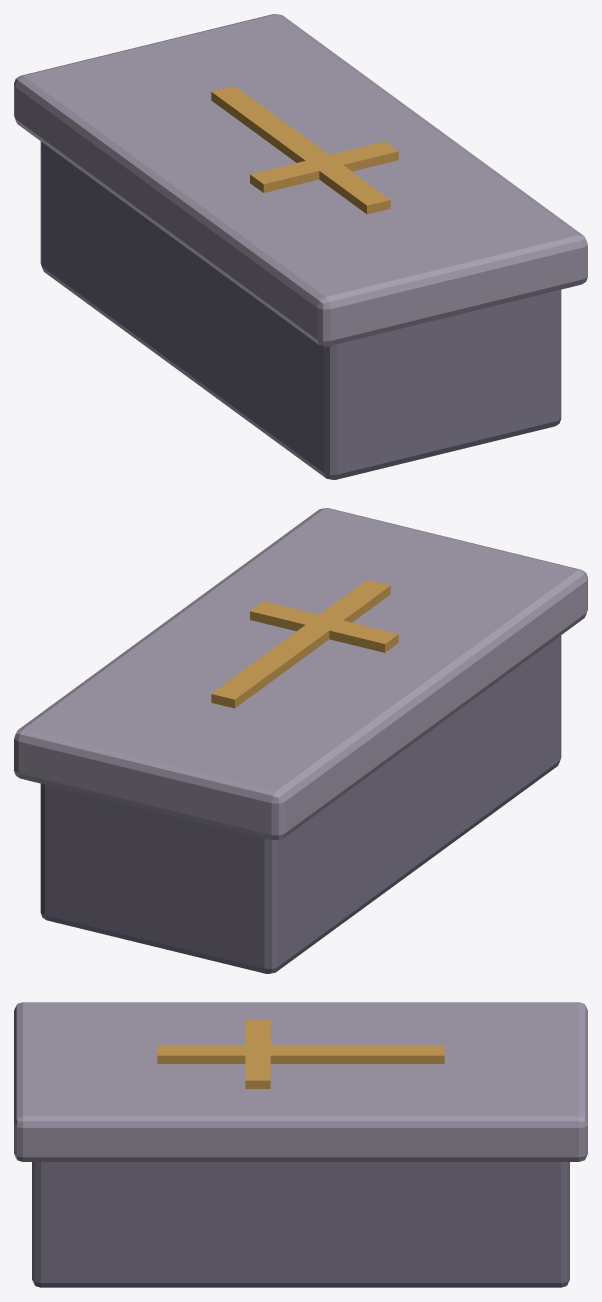
Rendered from coffin.glb.
The picture shows the model from 3 angles, top to bottom: view 1: azimuth 30°, elevation 25°; view 2: azimuth 150°, elevation 25°; view 3: azimuth 270°, elevation 25°; orthographic projection. The views are drawn at different scales.
Parts seen in each view (by area): view 1: lid, sarcophagus, lid cross vertical, lid cross horizontal; view 2: lid, sarcophagus, lid cross vertical, lid cross horizontal; view 3: lid, sarcophagus, lid cross vertical, lid cross horizontal.
Boxes of the visible parts, bbox=[...] form: lid: bbox=[14, 14, 587, 346]; sarcophagus: bbox=[40, 141, 561, 479]; lid cross vertical: bbox=[211, 86, 390, 214]; lid cross horizontal: bbox=[250, 141, 398, 192]; lid: bbox=[14, 508, 587, 840]; sarcophagus: bbox=[40, 635, 561, 973]; lid cross vertical: bbox=[211, 580, 390, 708]; lid cross horizontal: bbox=[250, 601, 398, 652]; lid: bbox=[14, 1002, 587, 1161]; sarcophagus: bbox=[32, 1162, 569, 1287]; lid cross vertical: bbox=[157, 1045, 444, 1063]; lid cross horizontal: bbox=[245, 1020, 270, 1088].
Size of the model in its own units: 0.8 by 0.5775 by 1.6.
